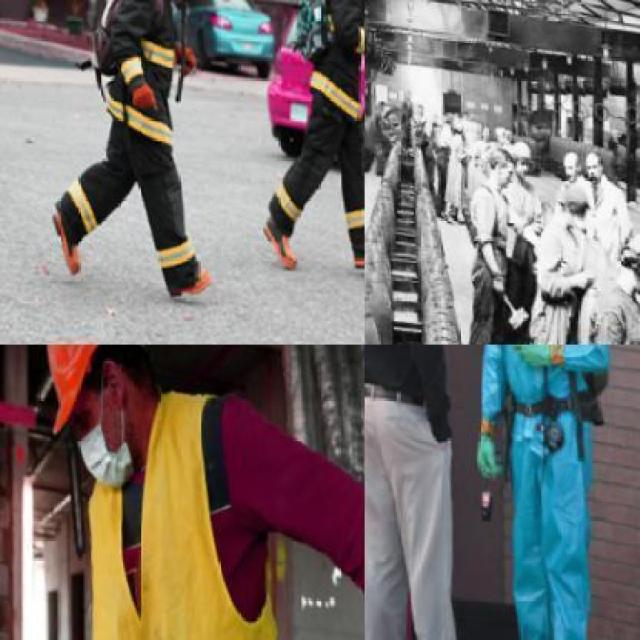Vest: (60, 370, 320, 638), (86, 0, 190, 132), (462, 344, 620, 430), (292, 0, 363, 131)
